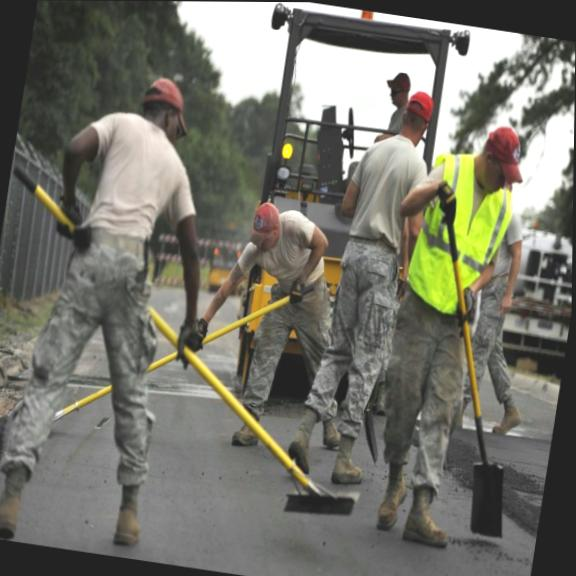no_safety_vest: (64, 103, 193, 260), (334, 130, 441, 269), (252, 199, 334, 304)
safety_vest: (400, 141, 522, 322)
